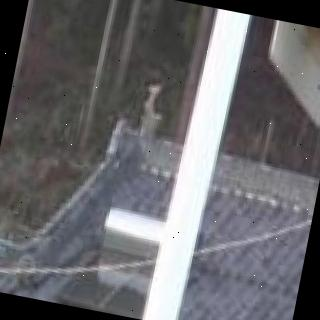fire: (0, 0, 47, 230)
